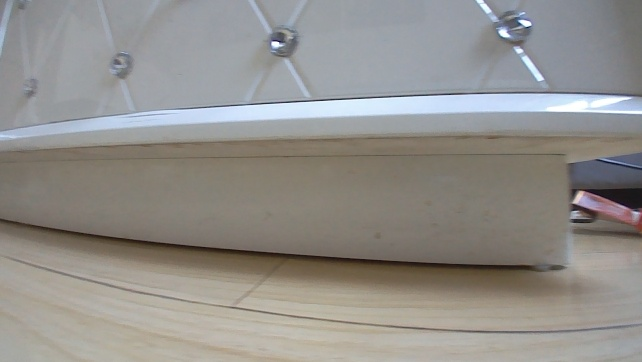wire: (595, 155, 641, 172)
